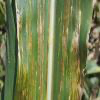Corn leaf blight: (15, 0, 92, 99)
